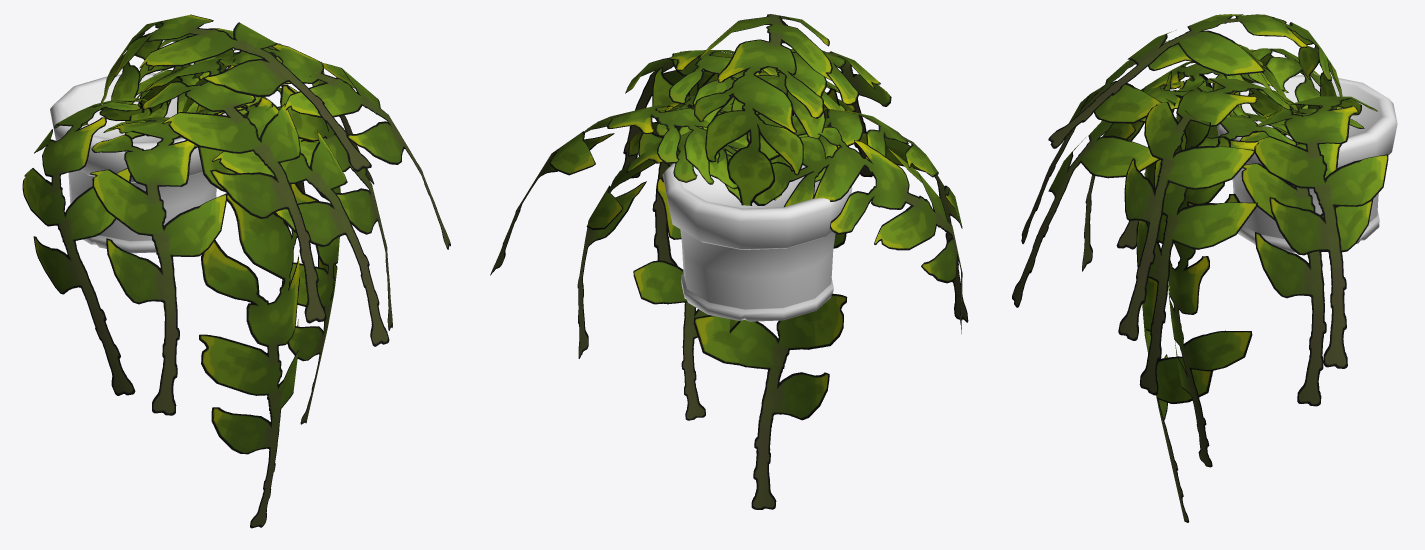
File: PlantSmall_01.fbx
3 renders of one model, left to right at view 1: azimuth 30°, elevation 25°; view 2: azimuth 150°, elevation 25°; view 3: azimuth 270°, elevation 25°, orthographic. The views are drawn at different scales.
Visible parts, largest first — view 1: Plane.140, Plane.142, Plane.136, Plane.138, Plane.137, Pot.004, Plane.139, Plane.141, Plane.144, Plane.143, Plane.146, Plane.145; view 2: Pot.004, Plane.137, Plane.138, Plane.140, Plane.145, Plane.144, Plane.136, Plane.142, Plane.146, Plane.141, Plane.143; view 3: Plane.145, Plane.141, Plane.146, Plane.143, Plane.137, Plane.144, Pot.004, Plane.139, Plane.136, Plane.140, Plane.138, Plane.142.
Part boxes in pixels (x1,y1,x2,y2): Plane.140: (198,104,299,528); Plane.142: (90,117,227,415); Plane.136: (131,57,326,323); Plane.138: (22,97,147,395); Plane.137: (100,14,371,171); Pot.004: (50,73,226,253); Plane.139: (174,97,389,346); Plane.141: (182,44,450,249); Plane.144: (280,61,340,424); Plane.143: (216,84,392,330); Plane.146: (125,64,310,245); Plane.145: (138,28,374,184); Pot.004: (662,163,852,321); Plane.137: (694,14,832,205); Plane.138: (753,127,962,333); Plane.140: (693,70,847,509); Plane.145: (490,105,740,275); Plane.144: (633,50,740,420); Plane.136: (731,49,891,177); Plane.142: (771,108,968,322); Plane.146: (577,131,781,358); Plane.141: (622,50,777,178); Plane.143: (628,96,732,265); Plane.145: (1254,96,1388,368); Plane.141: (1118,78,1299,340); Plane.146: (1240,108,1372,406); Plane.143: (1136,112,1296,395); Plane.137: (1048,14,1342,148); Plane.144: (1168,96,1252,467); Pot.004: (1217,74,1397,252); Plane.139: (1012,79,1248,307); Plane.136: (1021,40,1295,243); Plane.140: (1142,71,1213,522); Plane.138: (1116,48,1341,249); Plane.142: (1082,61,1288,271).
Size of the model in its own units: 526 by 644 by 486.
